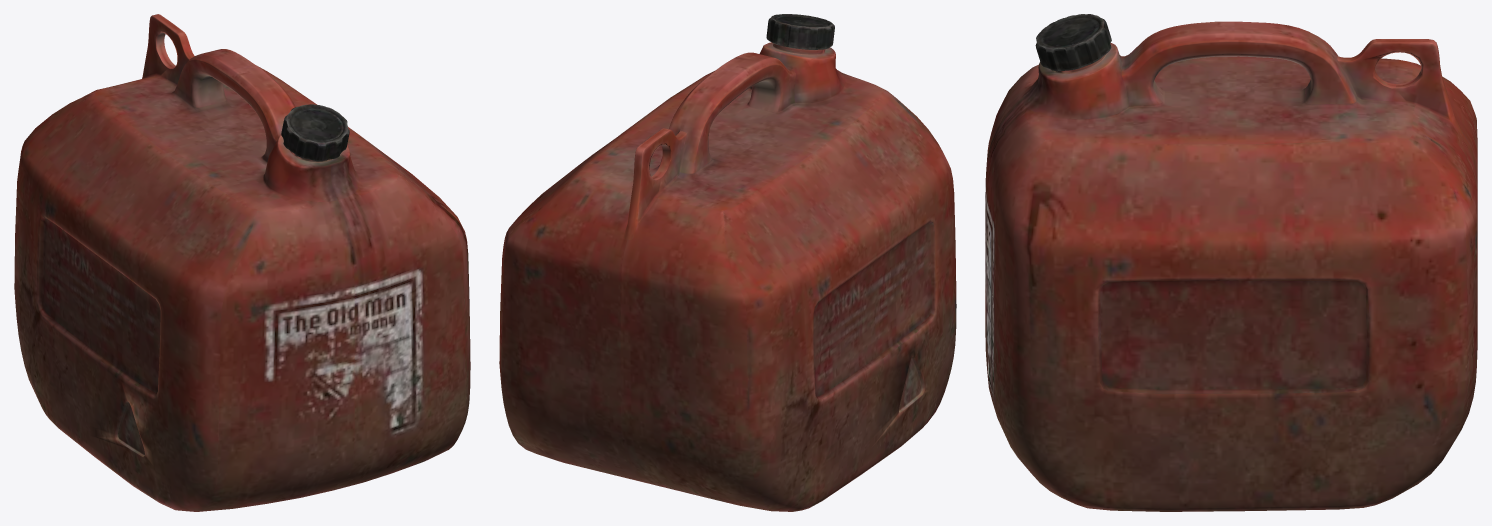
The model's file is plastic_jerrycan.glb.
3 renders of one model, left to right at view 1: azimuth 30°, elevation 25°; view 2: azimuth 150°, elevation 25°; view 3: azimuth 270°, elevation 25°, orthographic. The views are drawn at different scales.
Visible parts, largest first — view 1: plastic_jerrycan; view 2: plastic_jerrycan; view 3: plastic_jerrycan.
Boxes of the visible parts, box(x1,y1,x2,y2) form: plastic_jerrycan: box(14, 14, 470, 511); plastic_jerrycan: box(499, 14, 956, 511); plastic_jerrycan: box(985, 14, 1477, 511).
Size of the model in its own units: 0.268 by 0.3184 by 0.3409.
1 material, 1 textured.
